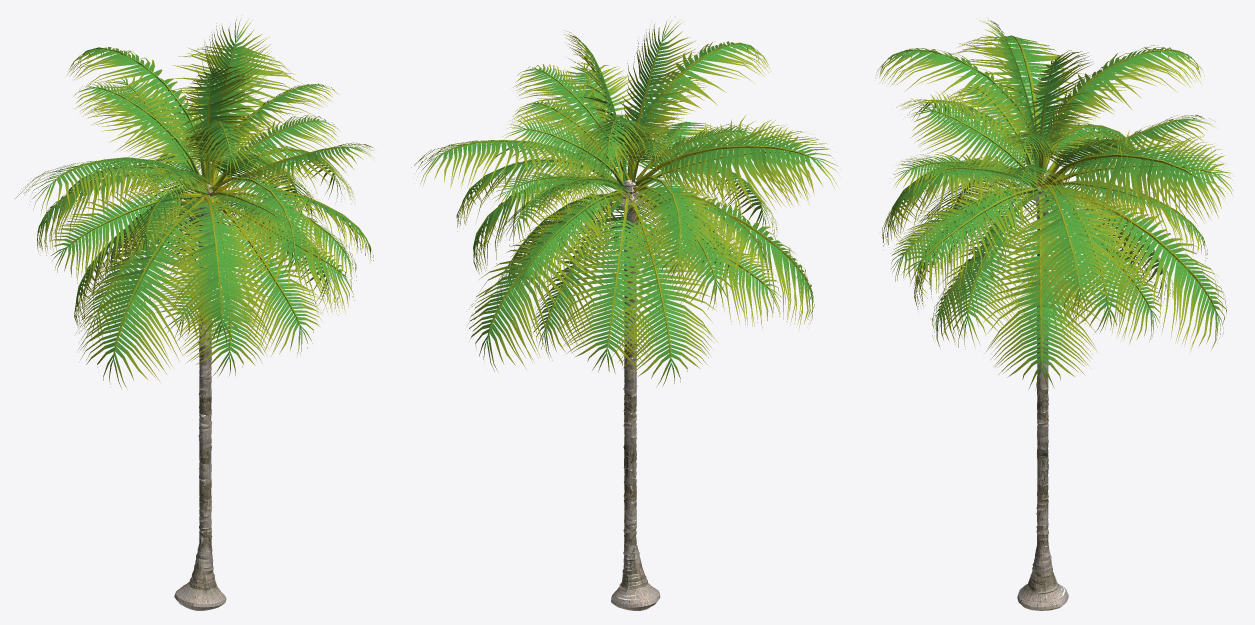
File: kelapa.fbx
3 renders of one model, left to right at view 1: azimuth 30°, elevation 25°; view 2: azimuth 150°, elevation 25°; view 3: azimuth 270°, elevation 25°, orthographic. The views are drawn at different scales.
Visible parts, largest first — view 1: objArch310_1, objArch31_1; view 2: objArch310_1, objArch31_1; view 3: objArch310_1, objArch31_1.
Part boxes in pixels (x1,y1,x2,y2): objArch310_1: [15, 15, 374, 389]; objArch31_1: [174, 183, 226, 610]; objArch310_1: [411, 16, 840, 385]; objArch31_1: [611, 179, 660, 610]; objArch310_1: [876, 18, 1233, 389]; objArch31_1: [1017, 172, 1068, 610].
Size of the model in its own units: 1.33 by 2.09 by 1.19.
